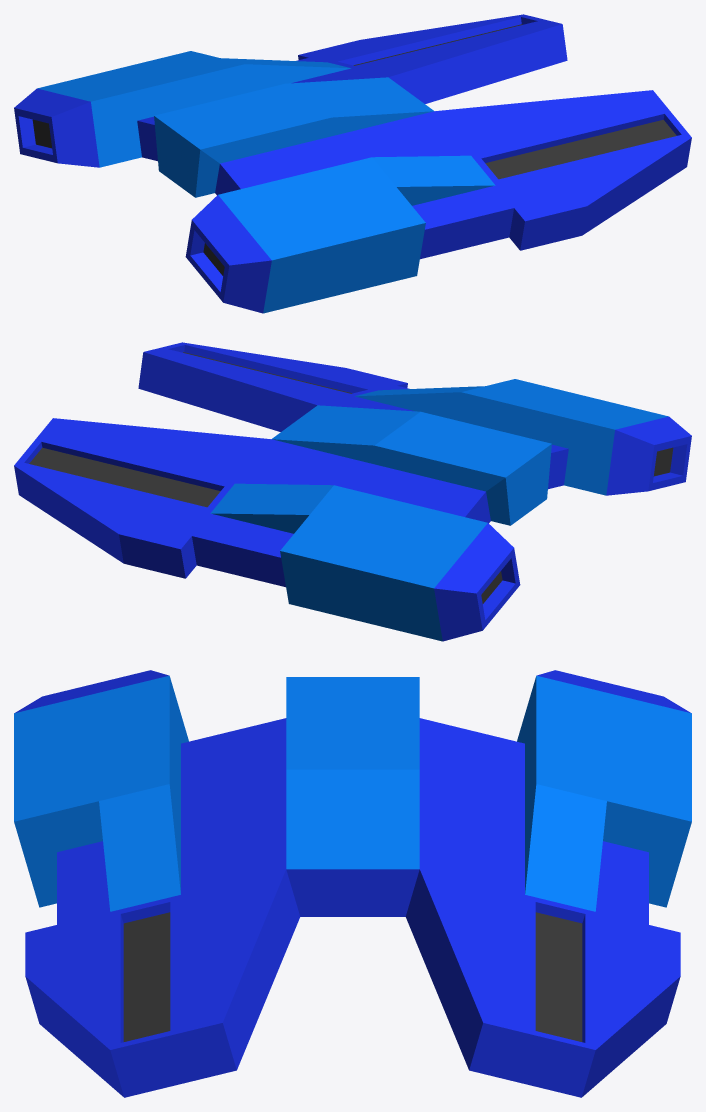
Rendered from PlayerTank001.FBX.
3 views of the same model, one above another, from view 1: azimuth 30°, elevation 25°; view 2: azimuth 150°, elevation 25°; view 3: azimuth 270°, elevation 25° (orthographic). The views are drawn at different scales.
Visible parts, largest first — view 1: PlayerTank001; view 2: PlayerTank001; view 3: PlayerTank001.
Part boxes in pixels (x1,y1,x2,y2): PlayerTank001: (14, 14, 691, 313); PlayerTank001: (14, 342, 691, 641); PlayerTank001: (14, 670, 691, 1097).
Size of what is drawn, in the model's own units: 74.28 by 62.19 by 13.99.
